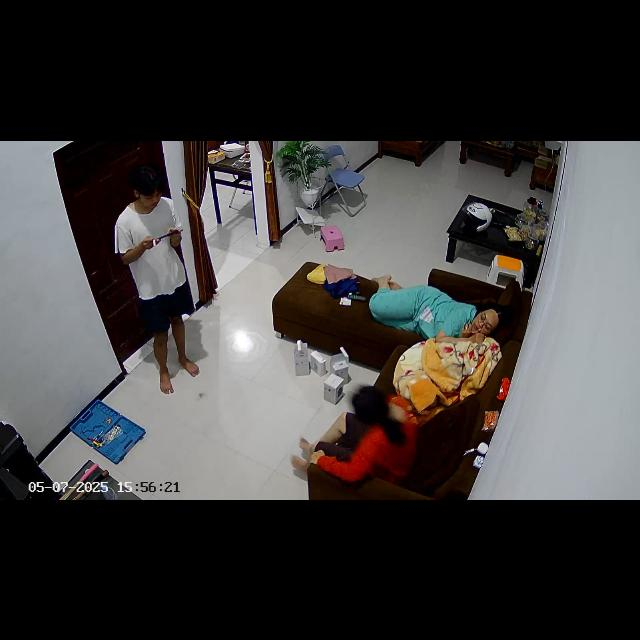rokok: (150, 238, 158, 246)
